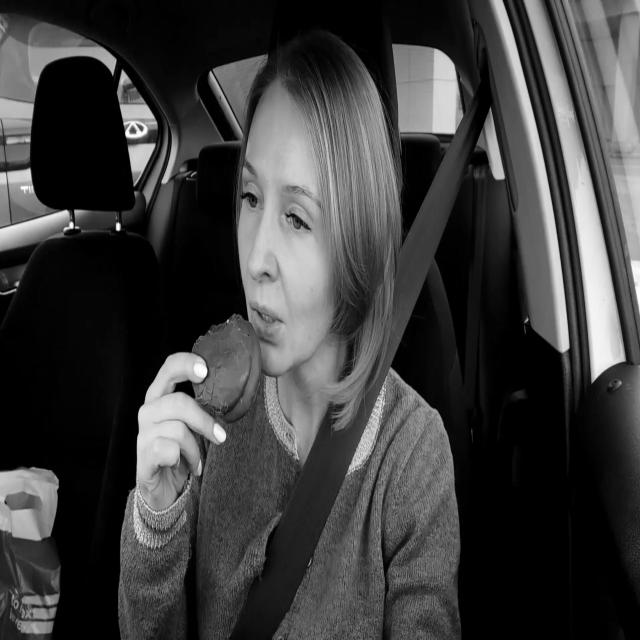Eating: (190, 309, 262, 427)
Seatbelt: (228, 77, 490, 640)
